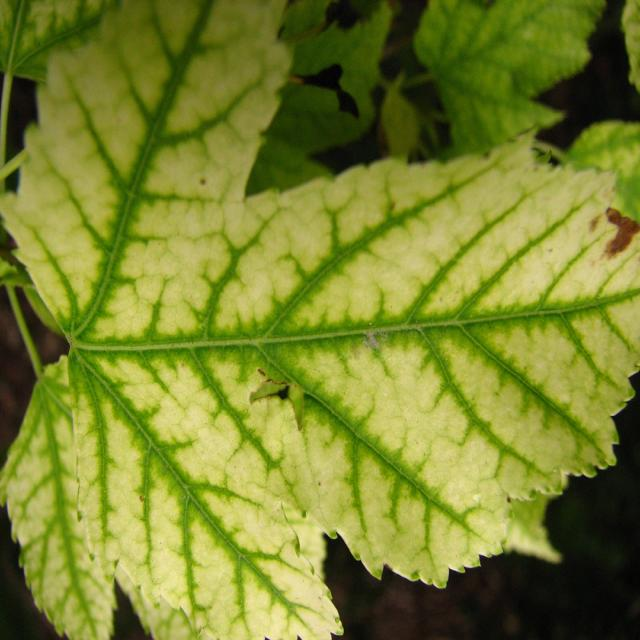Chlorosis: (13, 16, 620, 640)
